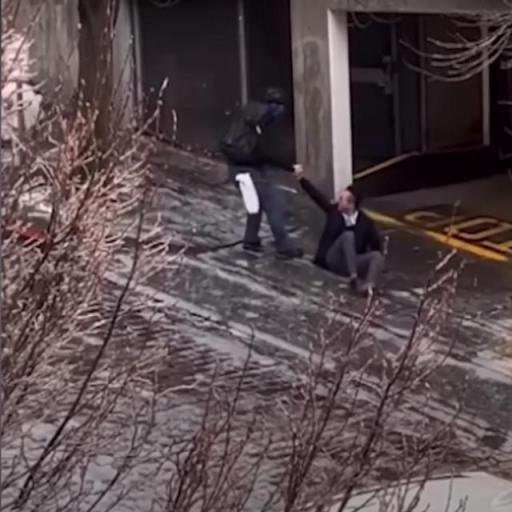Fall: (289, 157, 392, 300)
